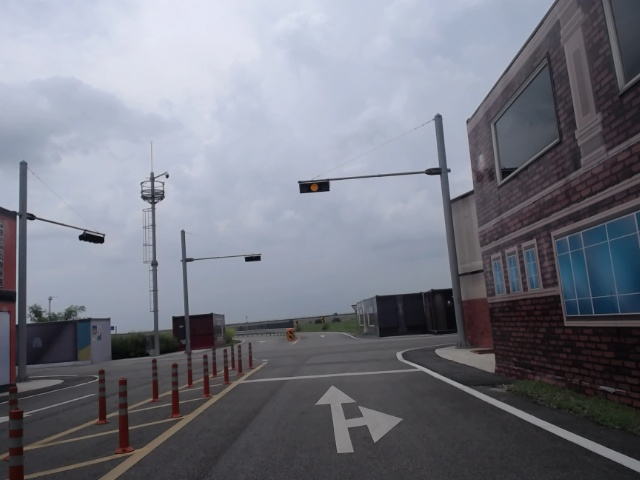orange_3: (300, 180, 330, 193)
